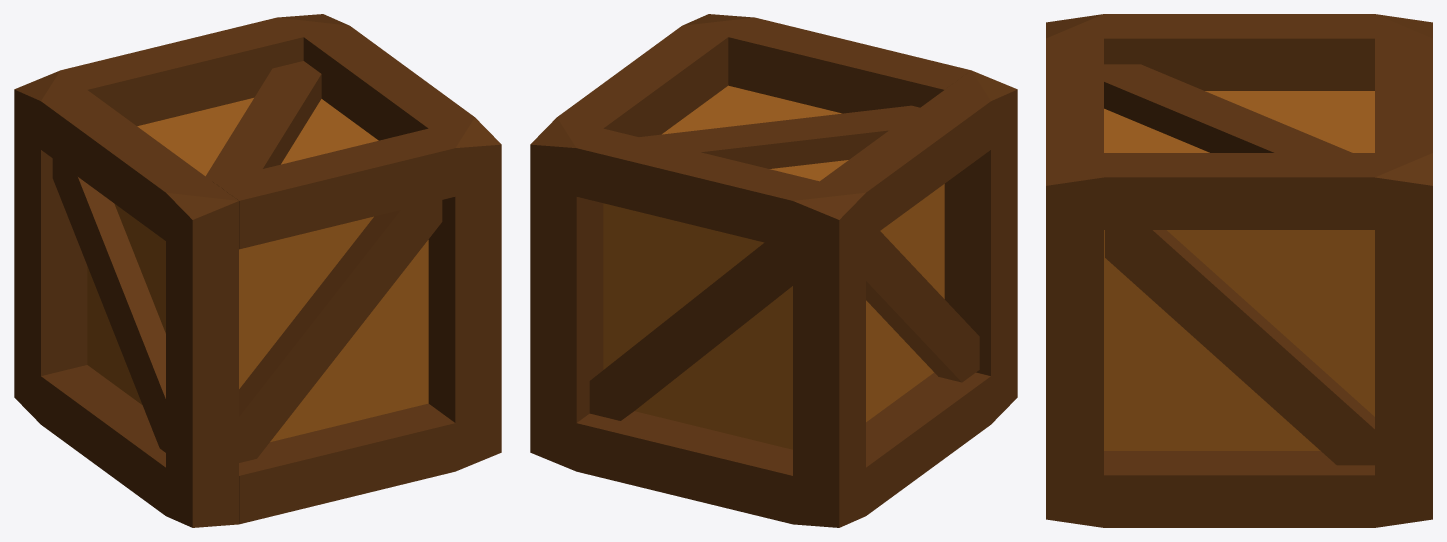
Rendered from crate_debris.fbx.
The picture shows the model from 3 angles, left to right: view 1: azimuth 30°, elevation 25°; view 2: azimuth 150°, elevation 25°; view 3: azimuth 270°, elevation 25°; orthographic projection. The views are drawn at different scales.
Parts seen in each view (by area): view 1: Crate Debris.021, Crate Debris.022, Crate Debris.020, Crate Debris.031, Crate Debris, Crate Debris.030, Crate Debris.028, Crate Debris.026, Crate Debris.029, Crate Debris.025, Crate Debris.024, Crate Debris.017 (+12 smaller); view 2: Crate Debris.020, Crate Debris.002, Crate Debris.021, Crate Debris.028, Crate Debris.027, Crate Debris, Crate Debris.033, Crate Debris.026, Crate Debris.024, Crate Debris.025, Crate Debris.014, Crate Debris.015 (+12 smaller); view 3: Crate Debris.002, Crate Debris.022, Crate Debris.024, Crate Debris.023, Crate Debris.032, Crate Debris.026, Crate Debris.034, Crate Debris.007, Crate Debris.017, Crate Debris.005, Crate Debris, Crate Debris.028 (+13 smaller).
Part boxes in pixels (x1,y1,x2,y2): Crate Debris.021: (166, 181, 238, 527); Crate Debris.022: (428, 117, 501, 471); Crate Debris.020: (14, 70, 87, 424); Crate Debris.031: (239, 200, 442, 462); Crate Debris: (212, 128, 455, 249); Crate Debris.030: (239, 403, 455, 524); Crate Debris.028: (61, 17, 303, 126); Crate Debris.026: (41, 90, 211, 240); Crate Debris.029: (52, 158, 165, 452); Crate Debris.025: (41, 365, 165, 515); Crate Debris.024: (303, 26, 474, 140); Crate Debris.017: (357, 216, 428, 420); Crate Debris.020: (793, 181, 865, 527); Crate Debris.002: (530, 117, 603, 471); Crate Debris.021: (944, 70, 1017, 424); Crate Debris.028: (576, 128, 819, 249); Crate Debris.027: (576, 411, 792, 524); Crate Debris: (728, 17, 970, 113); Crate Debris.033: (589, 242, 792, 420); Crate Debris.026: (820, 90, 990, 240); Crate Debris.024: (557, 26, 728, 136); Crate Debris.025: (866, 372, 990, 515); Crate Debris.014: (603, 203, 674, 420); Crate Debris.015: (674, 220, 746, 438); Crate Debris.002: (1375, 153, 1432, 527); Crate Debris.022: (1046, 153, 1103, 527); Crate Debris.024: (1104, 153, 1374, 229); Crate Debris.023: (1104, 451, 1374, 527); Crate Debris.032: (1105, 230, 1374, 465); Crate Debris.026: (1104, 14, 1374, 90); Crate Debris.034: (1104, 64, 1352, 152); Crate Debris.007: (1142, 240, 1336, 299); Crate Debris.017: (1104, 230, 1142, 450); Crate Debris.005: (1142, 356, 1336, 415); Crate Debris: (1046, 38, 1103, 152); Crate Debris.028: (1375, 38, 1432, 152).
Size of the model in its own units: 78.98 by 78.98 by 78.98.
1 material, 1 textured.
